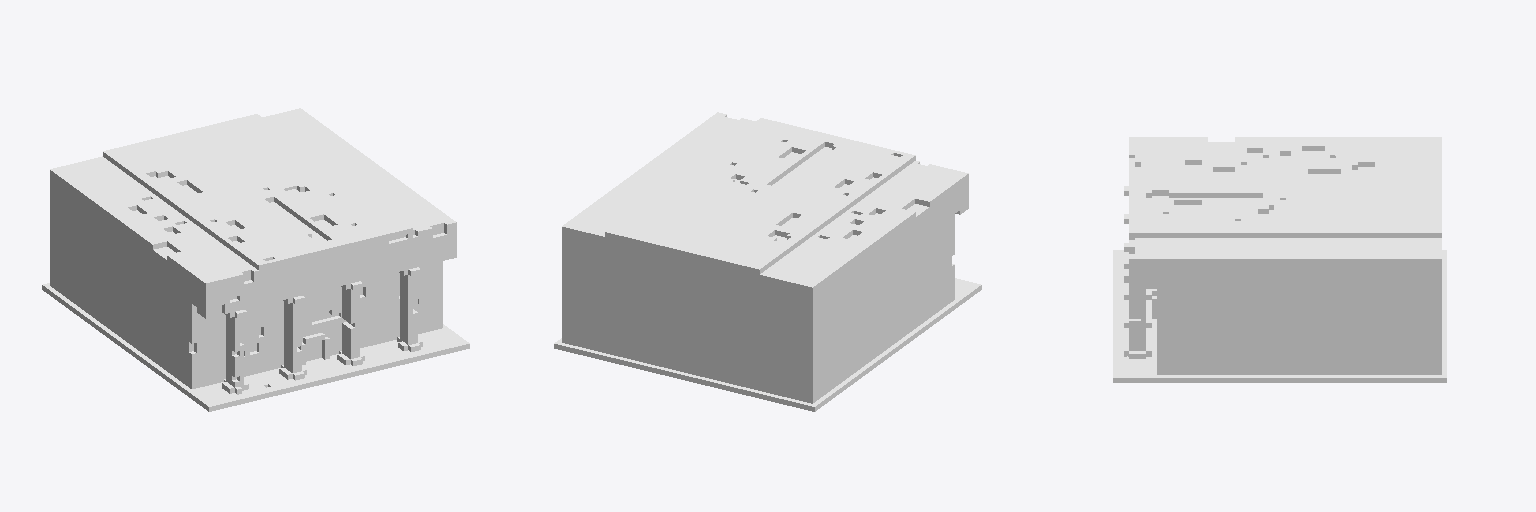
File: manort1.obj
3 views of the same model, side by side, from view 1: azimuth 30°, elevation 25°; view 2: azimuth 150°, elevation 25°; view 3: azimuth 270°, elevation 25° (orthographic).
Visible parts, largest first — view 1: object 1; view 2: object 1; view 3: object 1.
Boxes of the visible parts, box(x1,y1,x2,y2) form: object 1: box(42, 108, 469, 411); object 1: box(554, 112, 981, 411); object 1: box(1113, 137, 1446, 382).
Bounding box in the file's own units: 5.4 × 2.5 × 6.